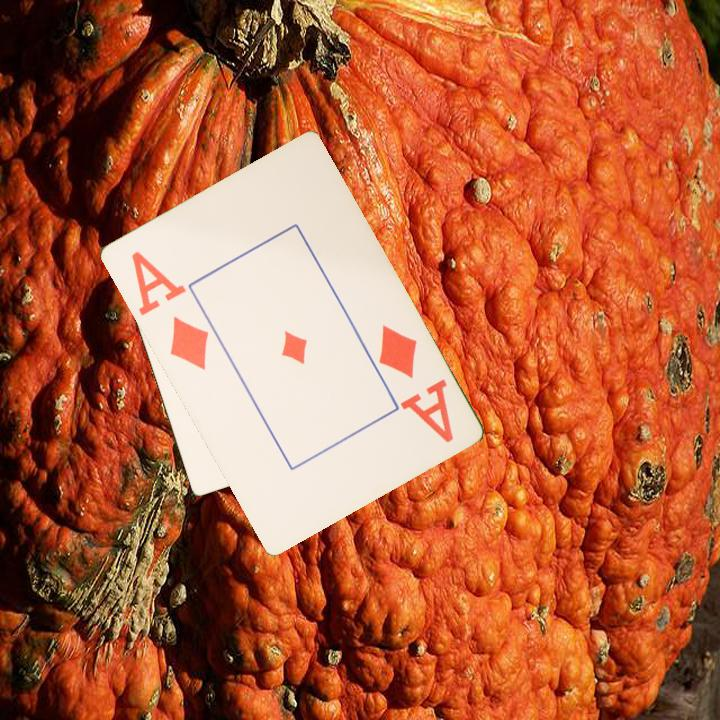Ad: (127, 247, 211, 373), (374, 321, 456, 446)
